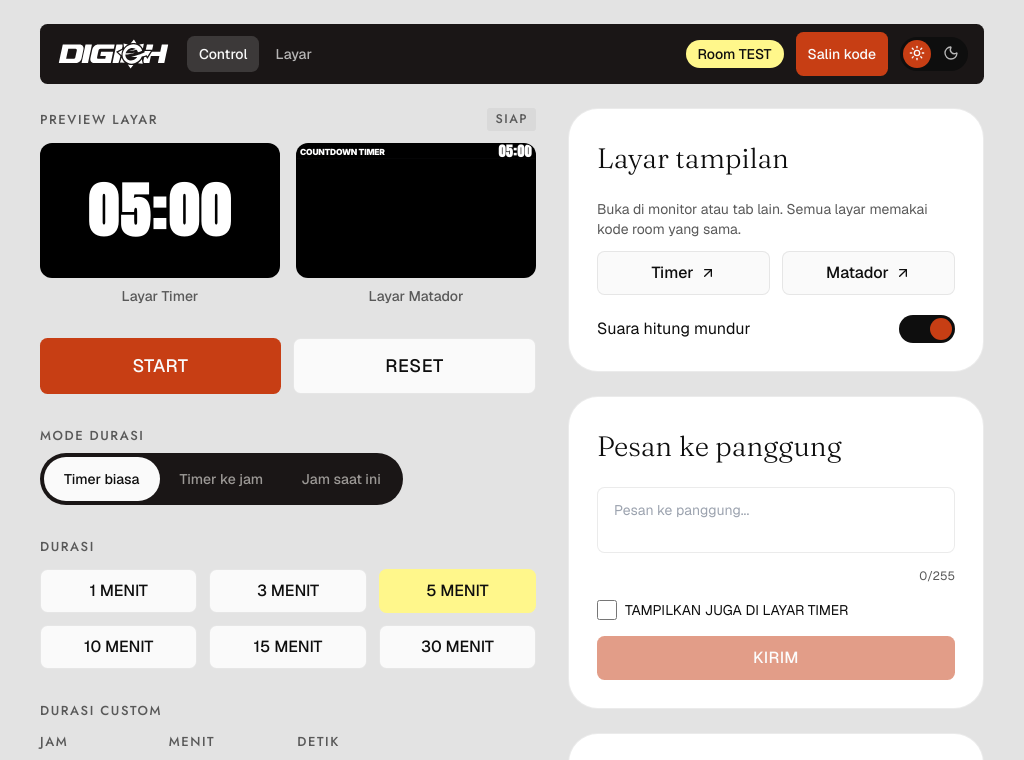
Scenario: ControlPage › klik preset memanggil setDuration dan tampil di preview
The image size is (1024, 760).
Click the button "10 MENIT" at (119, 647), box [40,625,197,669]
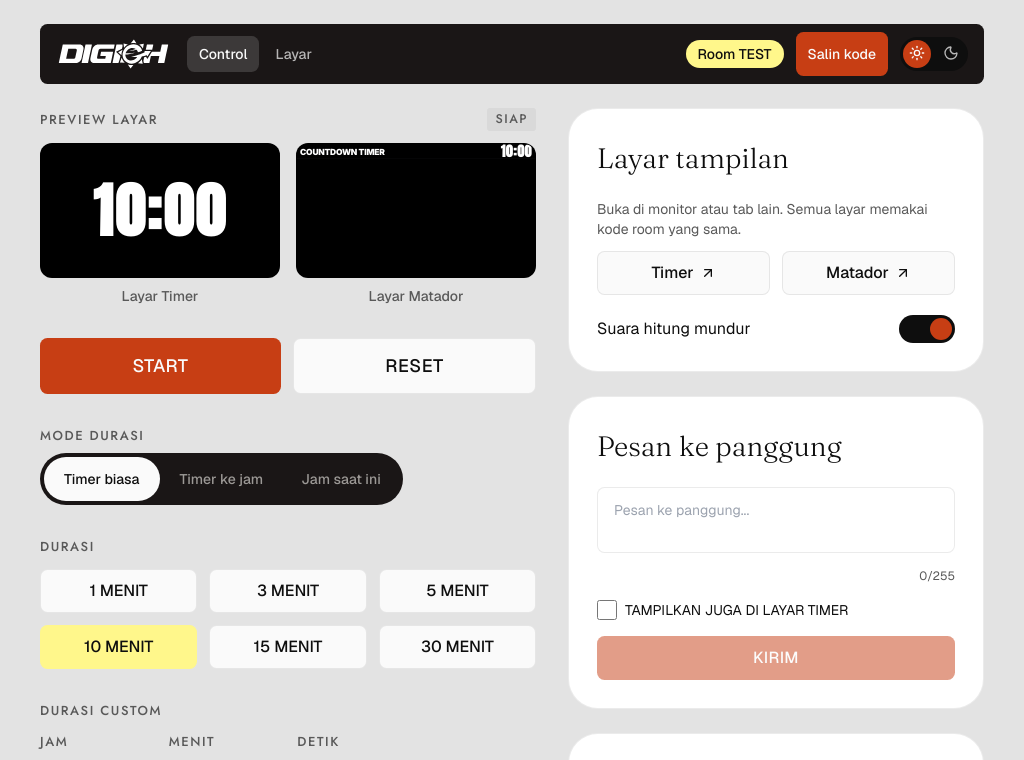
Expected: the text with test id "countdown-main" reads "10:00", [93,166,227,255]
